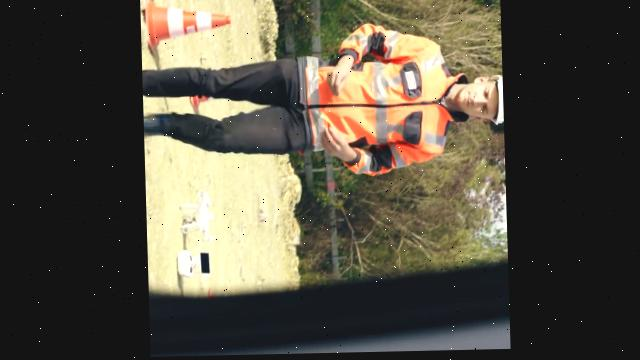drone: (177, 188, 213, 245)
